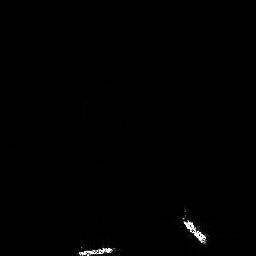ship: (177, 208, 211, 249), (73, 243, 118, 256)
